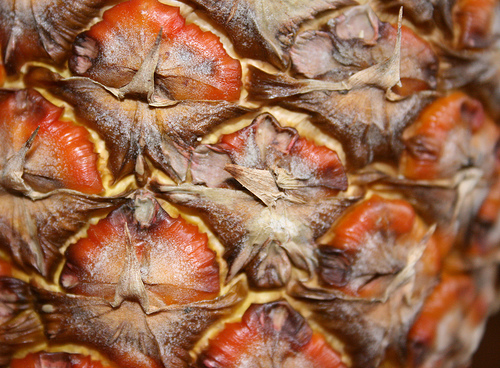pineapple: (2, 1, 498, 367)
